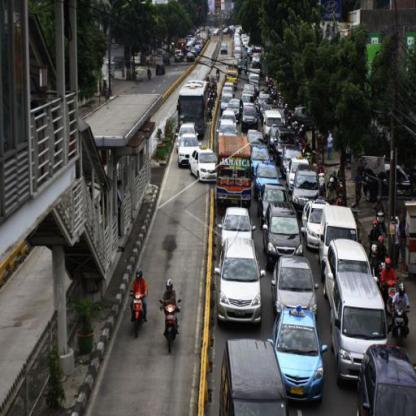bus: (176, 77, 210, 137)
car: (330, 280, 386, 378), (274, 305, 330, 402), (221, 337, 285, 415), (216, 240, 264, 323), (262, 204, 299, 258), (320, 250, 370, 288), (316, 204, 358, 249), (191, 147, 220, 179), (255, 162, 280, 190), (176, 132, 199, 162)
motorbike: (160, 302, 184, 356), (127, 288, 148, 338), (391, 307, 411, 344), (384, 276, 400, 307)
